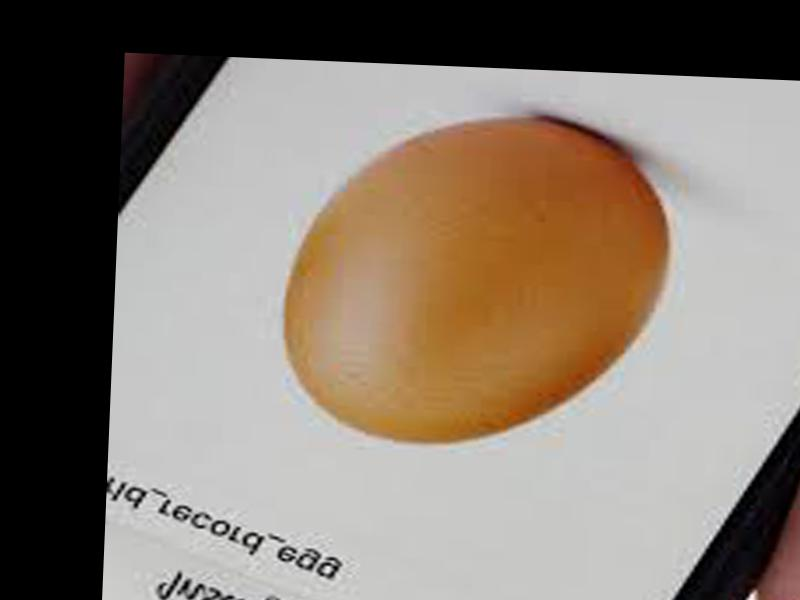Eggs: (280, 109, 673, 453)
